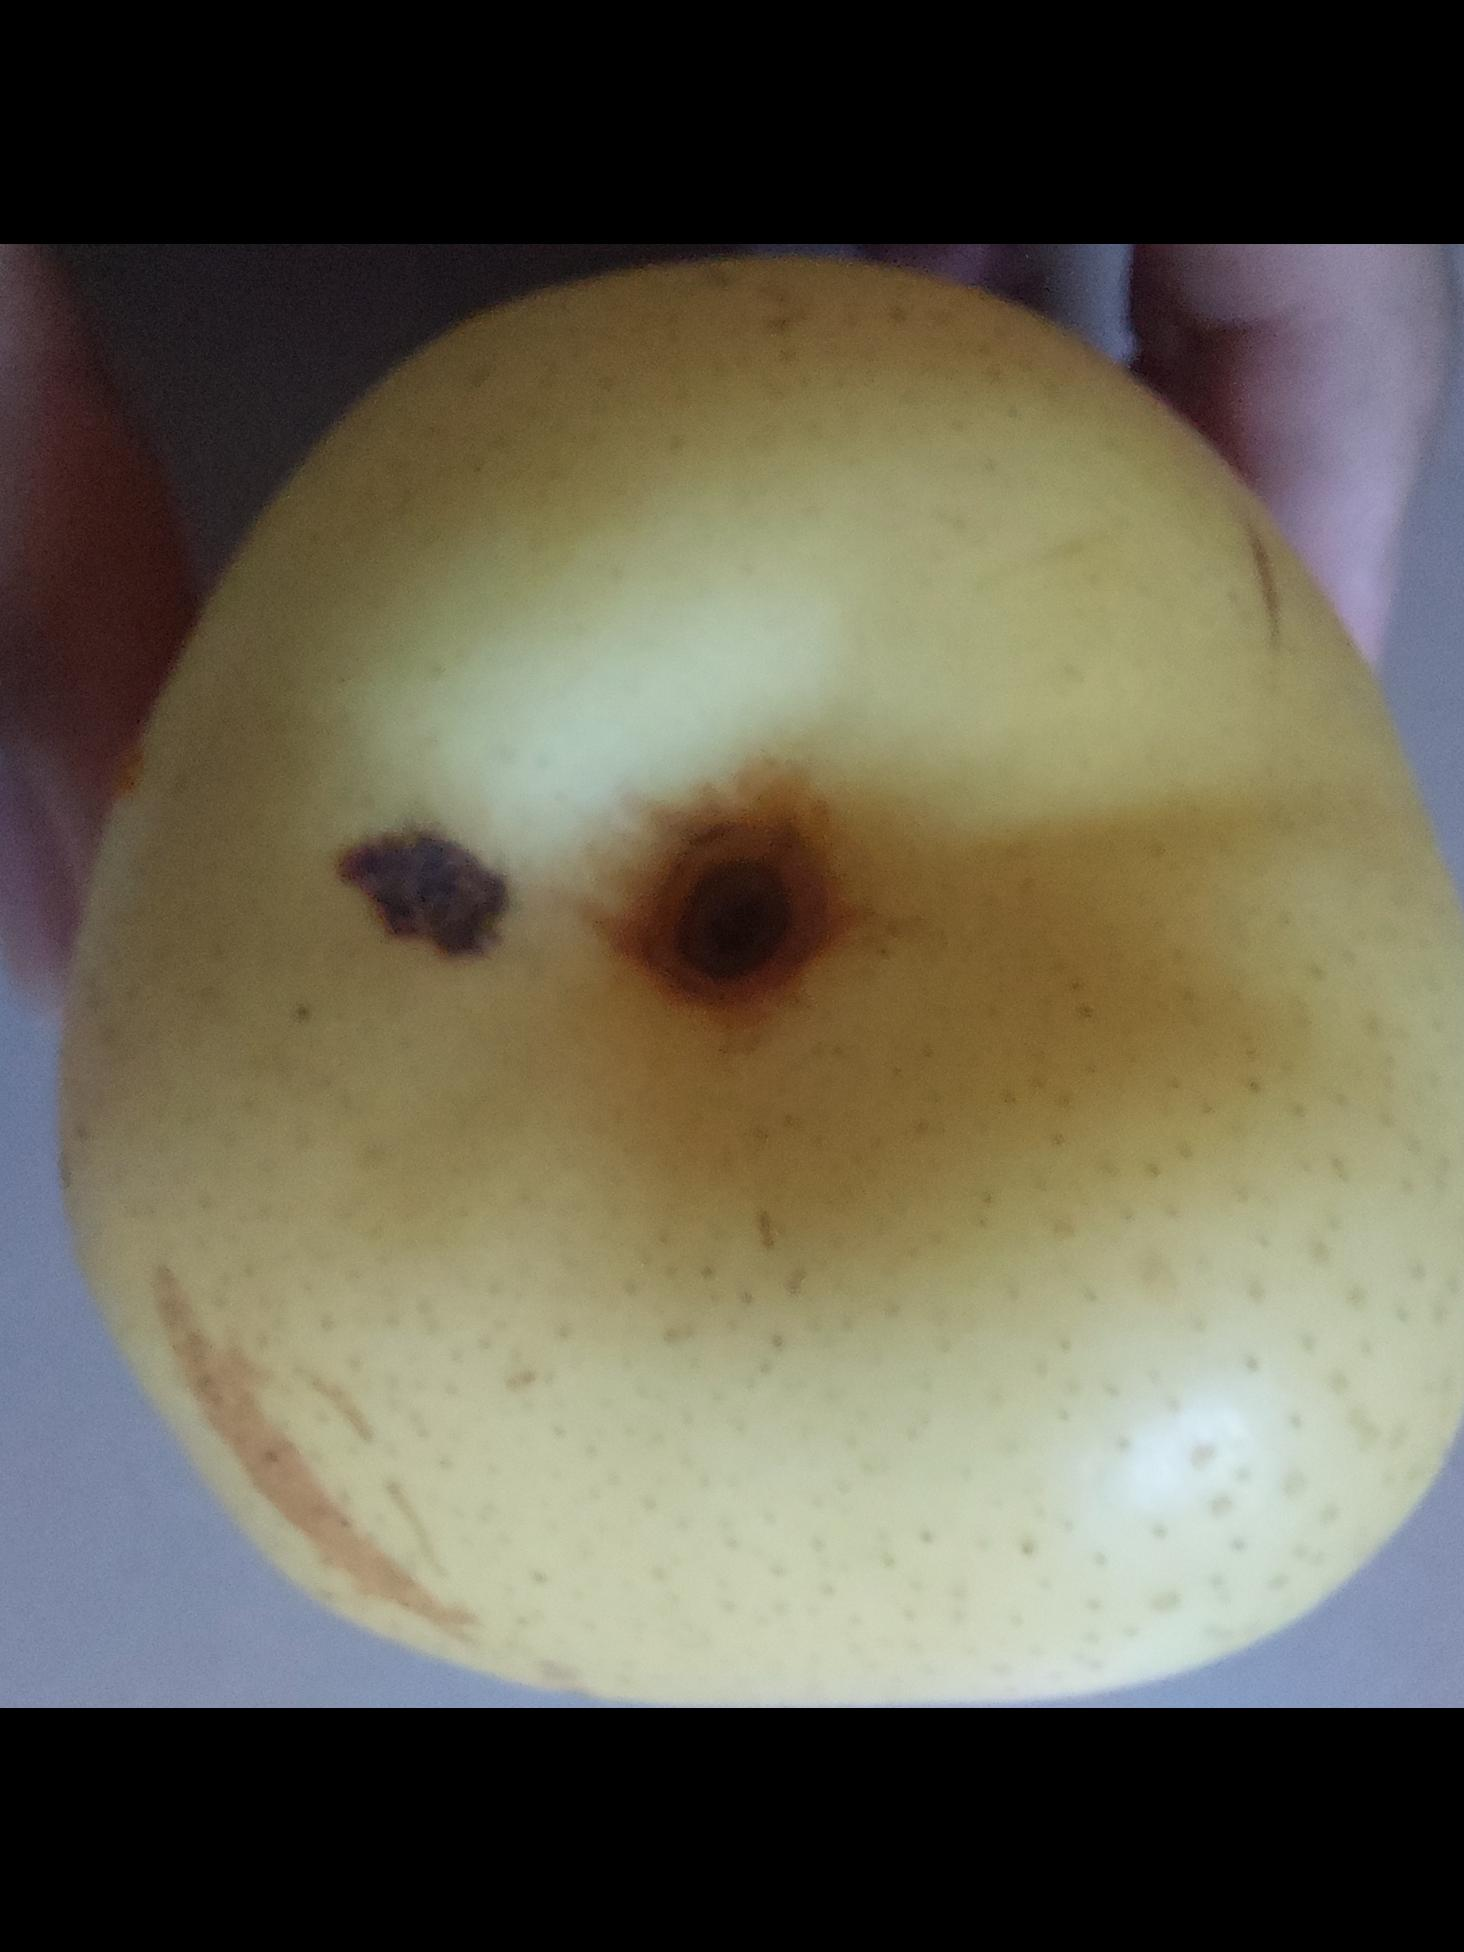Good Pear: (55, 251, 1464, 1708)
